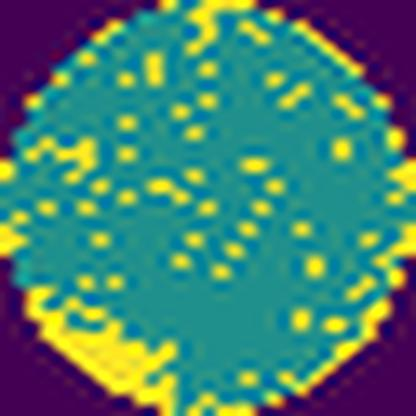Edge-Loc: (21, 280, 176, 411)
